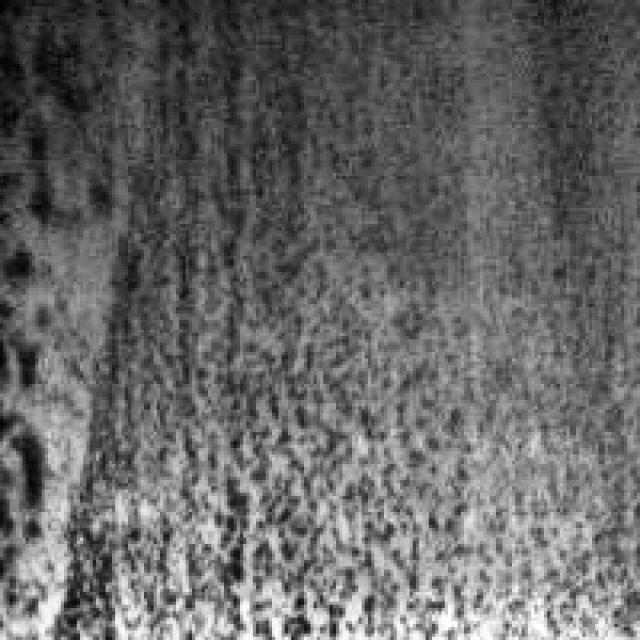Rolled_in_Scale: (58, 3, 476, 634)
